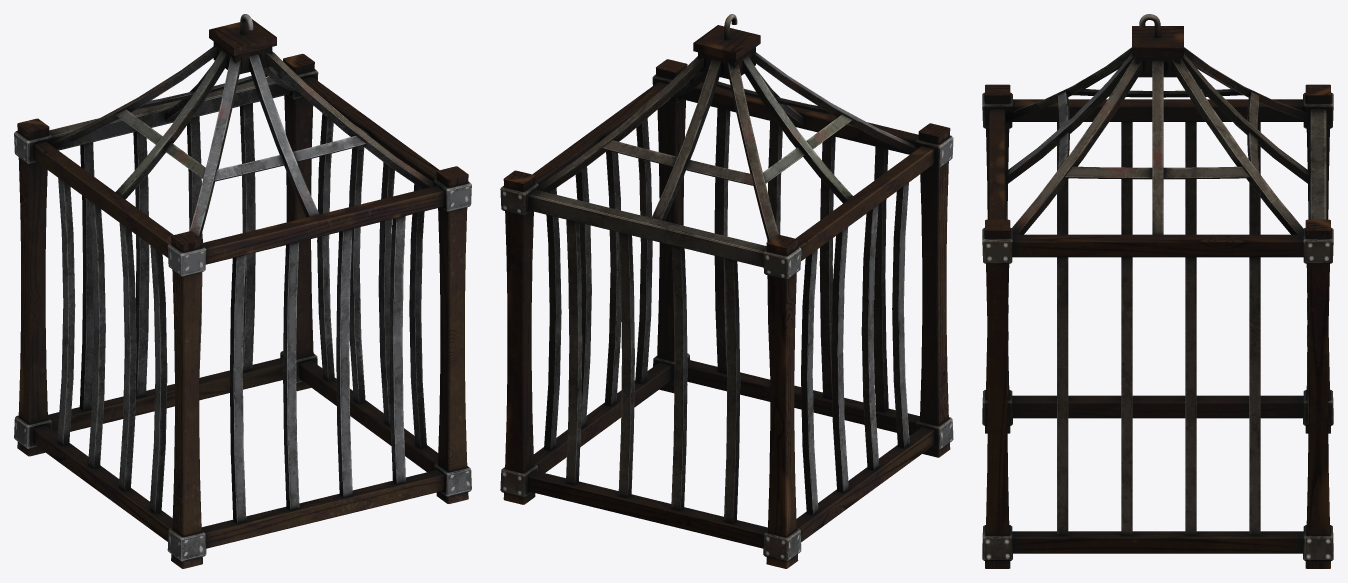
Rendered from cage_closed.fbx.
3 views of the same model, side by side, from view 1: azimuth 30°, elevation 25°; view 2: azimuth 150°, elevation 25°; view 3: azimuth 270°, elevation 25° (orthographic). The views are drawn at different scales.
Visible parts, largest first — view 1: cage_closed; view 2: cage_closed; view 3: cage_closed.
Part boxes in pixels (x1,y1,x2,y2): cage_closed: [14, 14, 471, 568]; cage_closed: [500, 14, 953, 568]; cage_closed: [982, 14, 1333, 568].
Size of the model in its own units: 92.56 by 140 by 92.79.
1 material, 1 textured.
